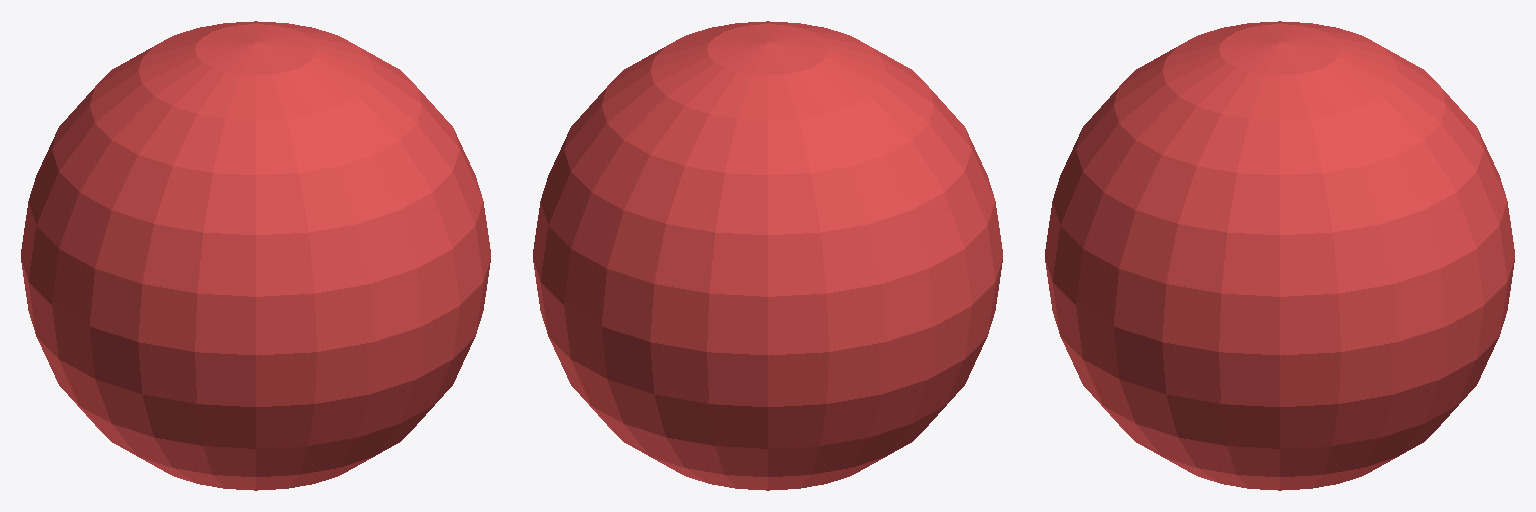
The model's file is TumbleSat2.obj.
3 views of the same model, side by side, from view 1: azimuth 30°, elevation 25°; view 2: azimuth 150°, elevation 25°; view 3: azimuth 270°, elevation 25° (orthographic).
Parts seen in each view (by area): view 1: sphere3; view 2: sphere3; view 3: sphere3.
Boxes of the visible parts, <box> form: sphere3: <box>21,21,490,490</box>; sphere3: <box>533,21,1002,490</box>; sphere3: <box>1045,21,1514,490</box>.
Size of the model in its own units: 0.5 by 0.5 by 0.5.